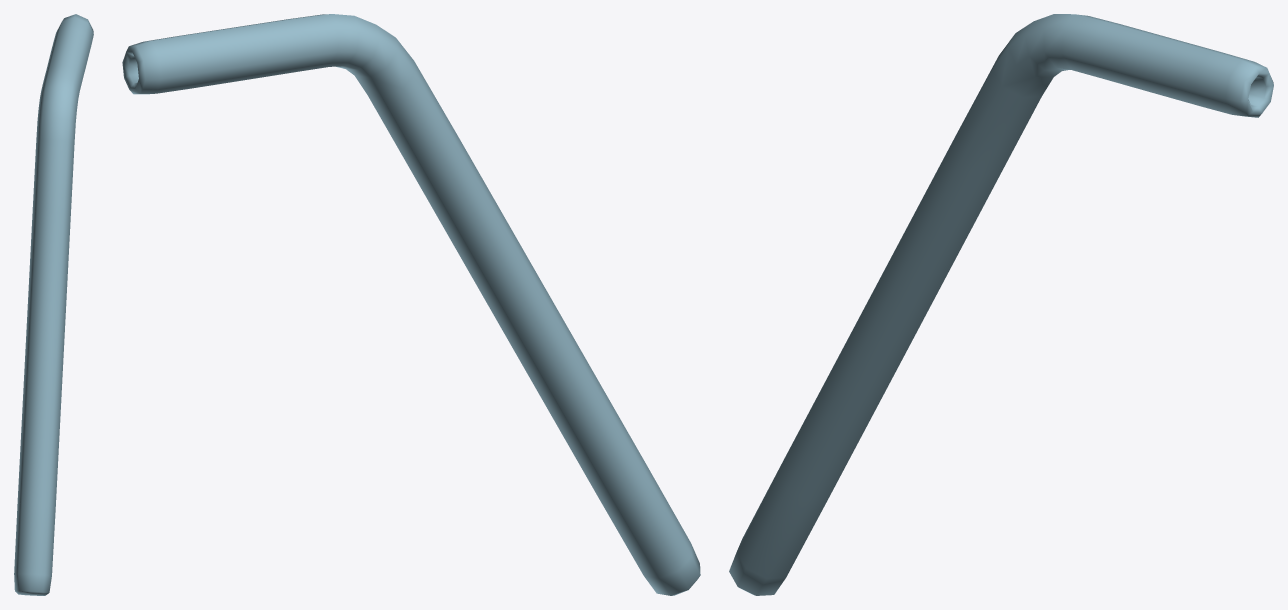
The model's file is Straw_01.dae.
The picture shows the model from 3 angles, left to right: view 1: azimuth 30°, elevation 25°; view 2: azimuth 150°, elevation 25°; view 3: azimuth 270°, elevation 25°; orthographic projection. The views are drawn at different scales.
Parts seen in each view (by area): view 1: Straw_01_LOD0; view 2: Straw_01_LOD0; view 3: Straw_01_LOD0.
Part boxes in pixels (x1,y1,x2,y2): Straw_01_LOD0: (14,14,93,595); Straw_01_LOD0: (122,14,700,595); Straw_01_LOD0: (729,14,1273,595).
Size of what is drawn, in the model's own units: 1.83 by 2.37 by 3.28.
